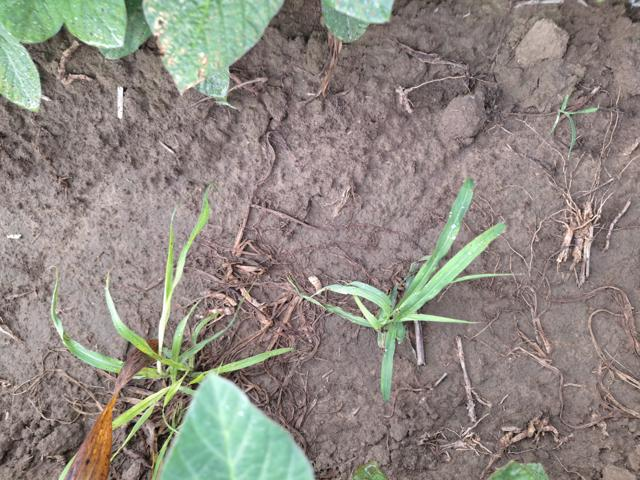bad weed: (40, 175, 286, 402), (296, 171, 516, 407), (533, 85, 598, 159)
